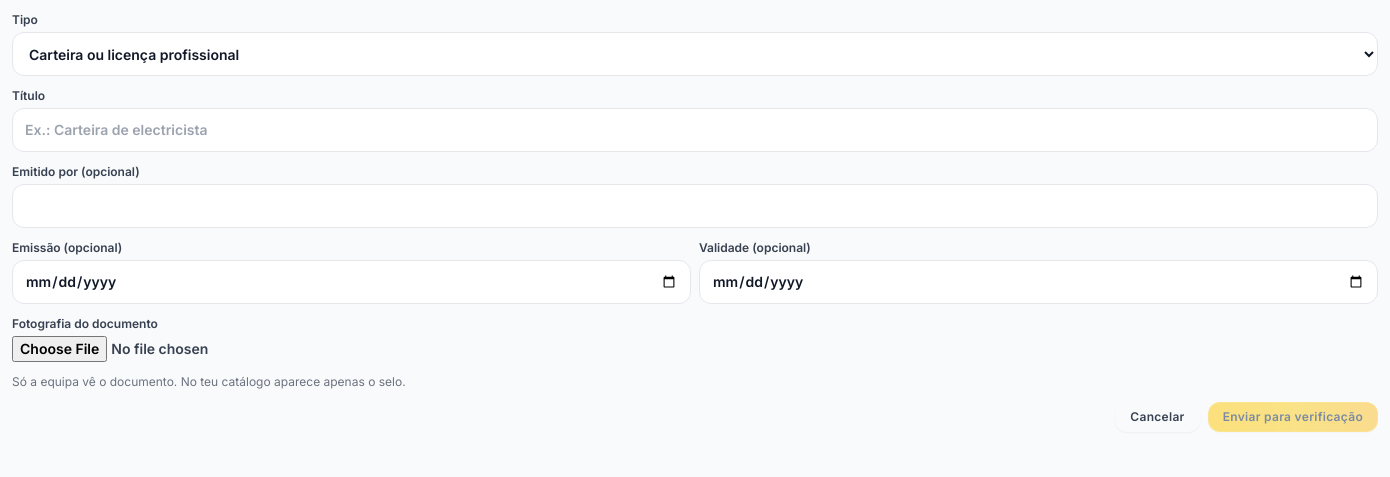
Test: FormularioDeCredencial › validade anterior à emissão bloqueia o envio
Type "2026-09-01" into the date field labelled "Emissão (opcional)". click: x=352, y=282
box: 12,260 -> 691,304
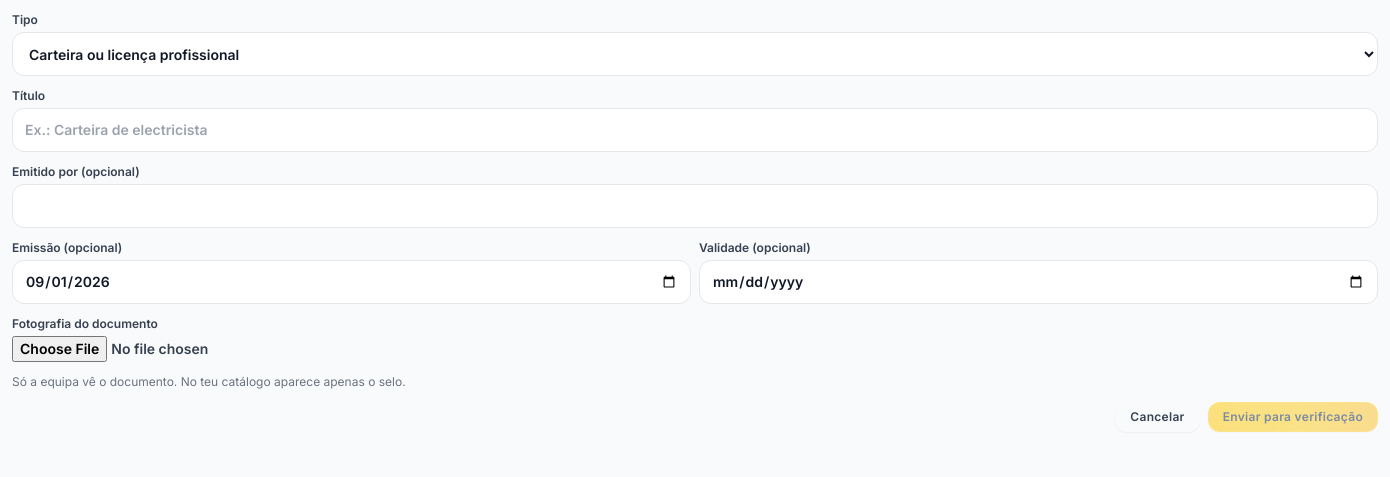
Type "2026-01-01" into the date field labelled "Validade (opcional)". click: x=1038, y=282
box: 699,260 -> 1378,304
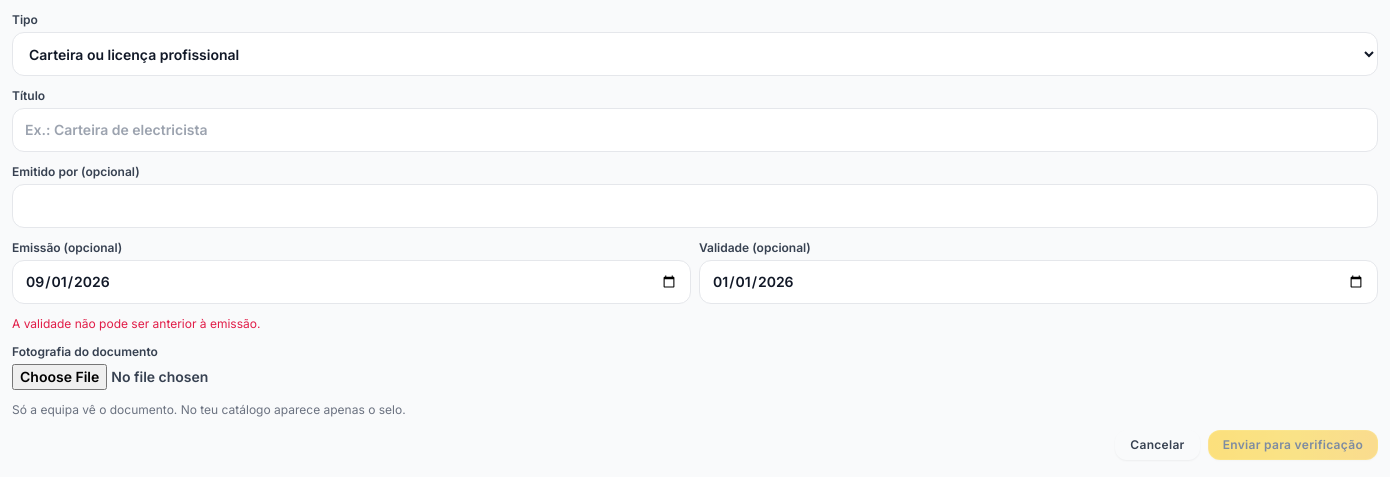
expect the text "A validade não pode ser anterior à emissão." is shown: met, box 12,316 -> 260,331
